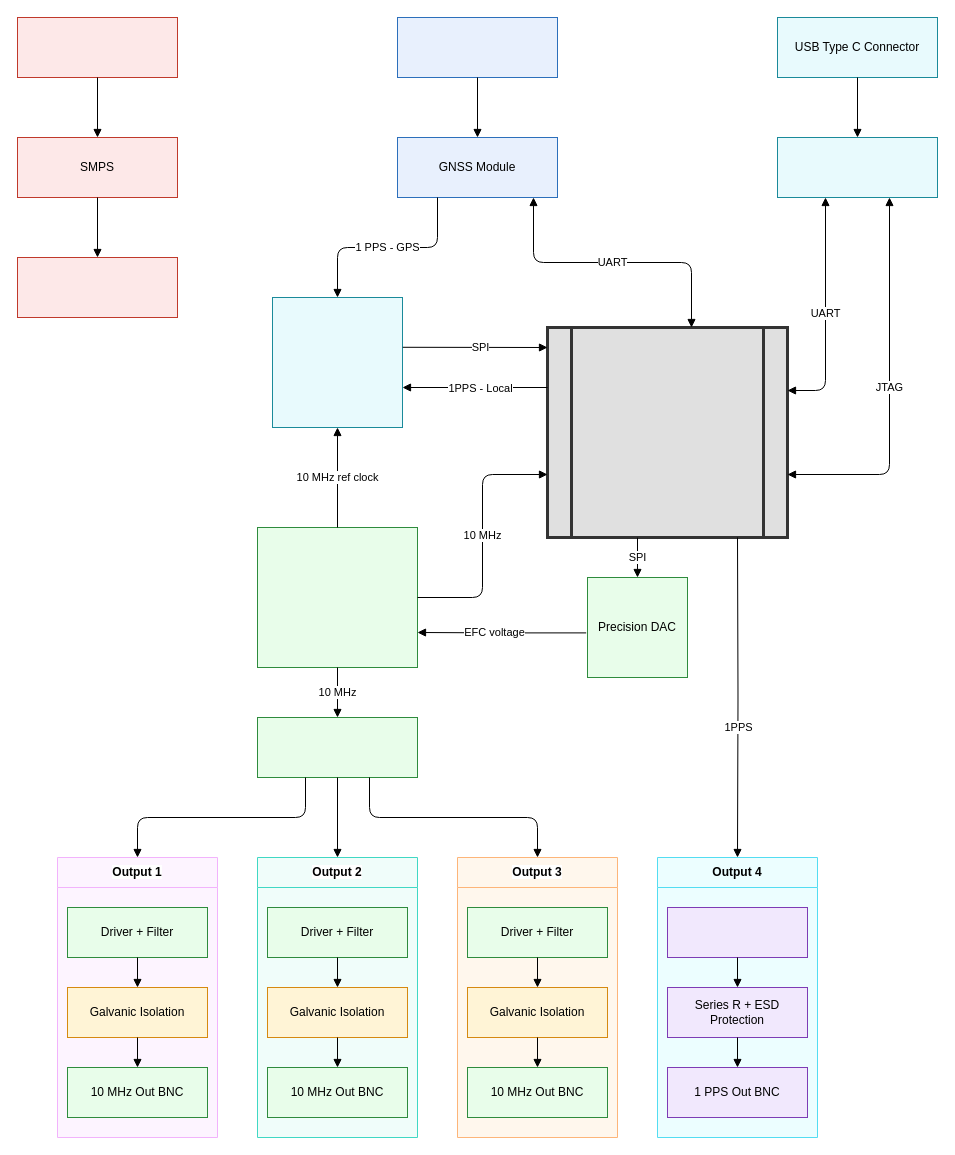
This 955x1155 diagram has some shape labels left out. The centre of each missing label's shape, as x and y in pixels:
"12V DC Jack Connector" goes at point (97, 47).
"Amplifier" goes at point (337, 747).
"FPGA Divider + Control Loop" goes at point (667, 432).
"GPS Antenna Connector" goes at point (477, 47).
"Linear Regulators" goes at point (97, 287).
"OCXO 10 MHz" goes at point (337, 597).
"Time-to-Digital Converter" goes at point (337, 362).
"TTL Driver" goes at point (737, 932).
"USB to UART/JTAG Bridge" goes at point (857, 167).
